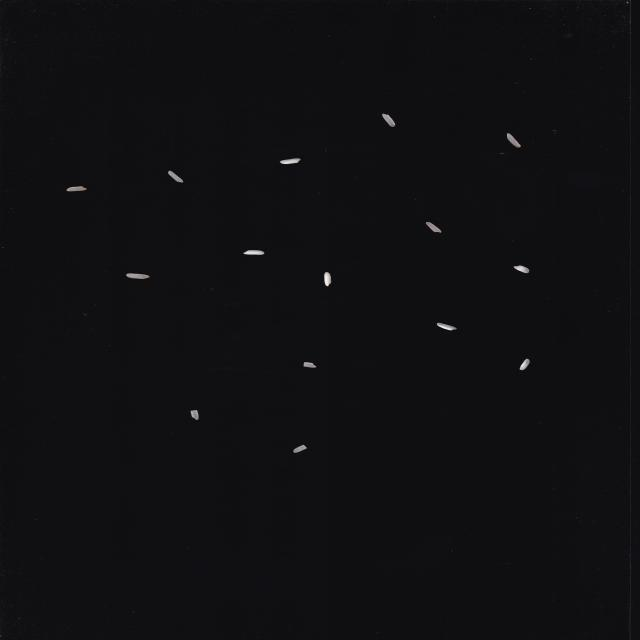Chalky: (436, 322, 457, 330), (513, 265, 530, 274), (519, 358, 530, 371)
Not: (506, 133, 521, 148), (168, 170, 184, 182), (425, 222, 442, 233), (382, 114, 396, 127), (126, 274, 150, 280), (280, 158, 301, 164), (66, 186, 87, 192), (293, 444, 307, 453), (324, 272, 332, 286), (243, 250, 265, 255), (190, 410, 199, 420), (303, 362, 317, 368)
